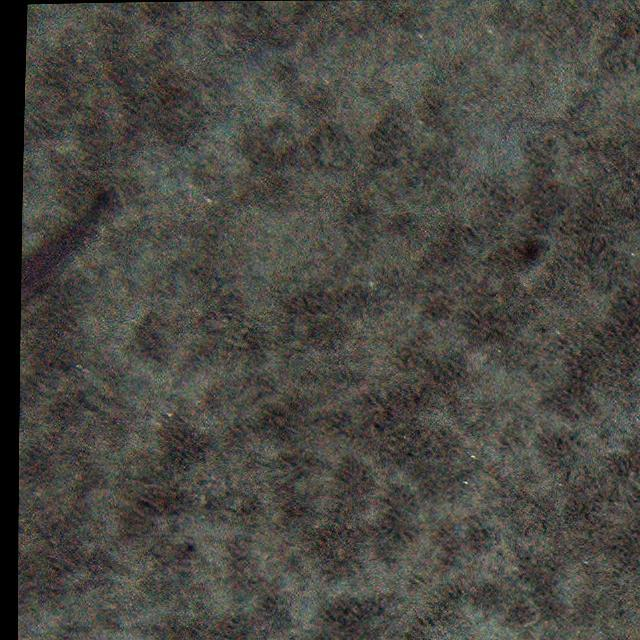roundfish: (22, 194, 116, 309)
